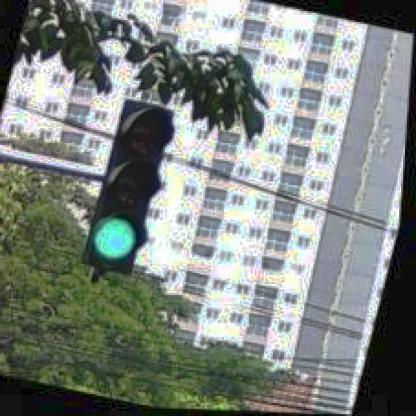Traffic Light -Green-: (87, 98, 181, 280)
